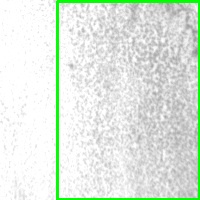pitted_surface: (57, 1, 199, 199)
